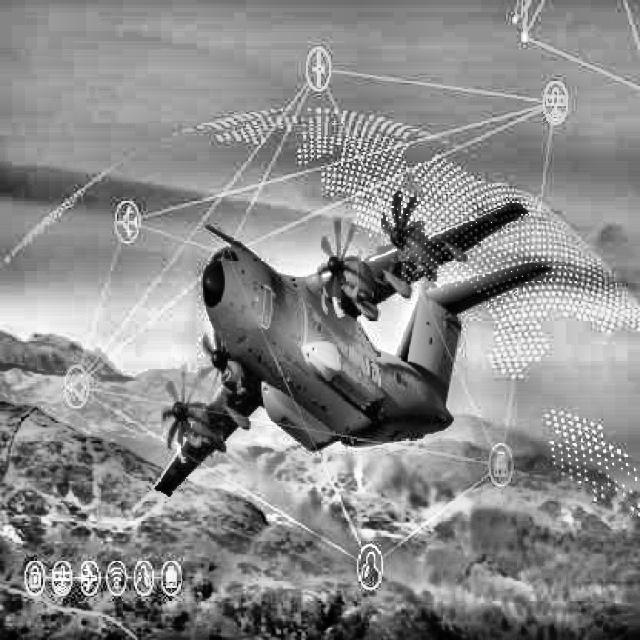A400M: (153, 191, 552, 497)
